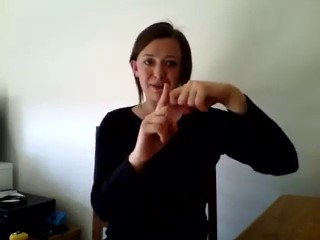K: (130, 77, 230, 164)
